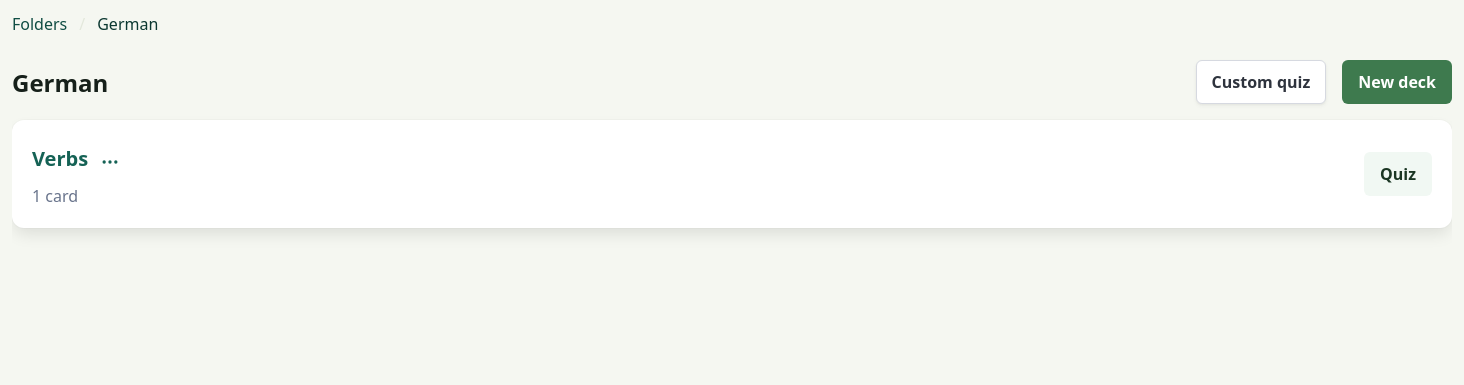
Test case: FolderView › keeps rename, move and delete behind the row menu, leaving Quiz on the row
Expected: the button with test id "deck-quiz" is shown, [1364,152,1432,196]
Click the button with test id "deck-menu": x=110, y=162 [88,140,132,184]
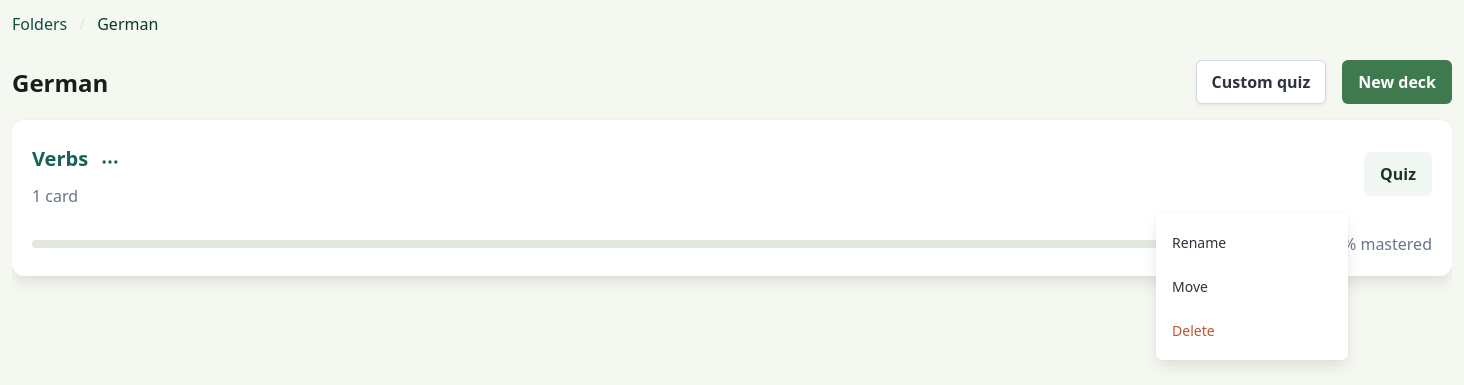
Expected: the button with test id "deck-rename" is shown, [1156,220,1348,264]
Expected: the button with test id "deck-move" is shown, [1156,264,1348,308]
Expected: the button with test id "deck-delete" is shown, [1156,308,1348,352]
